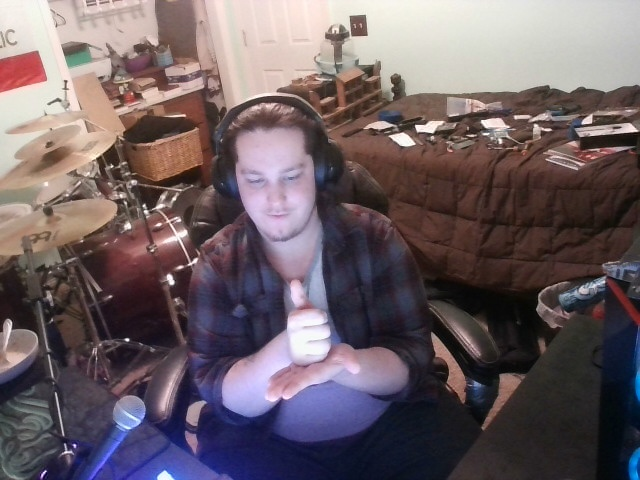help: (212, 268, 372, 422)
